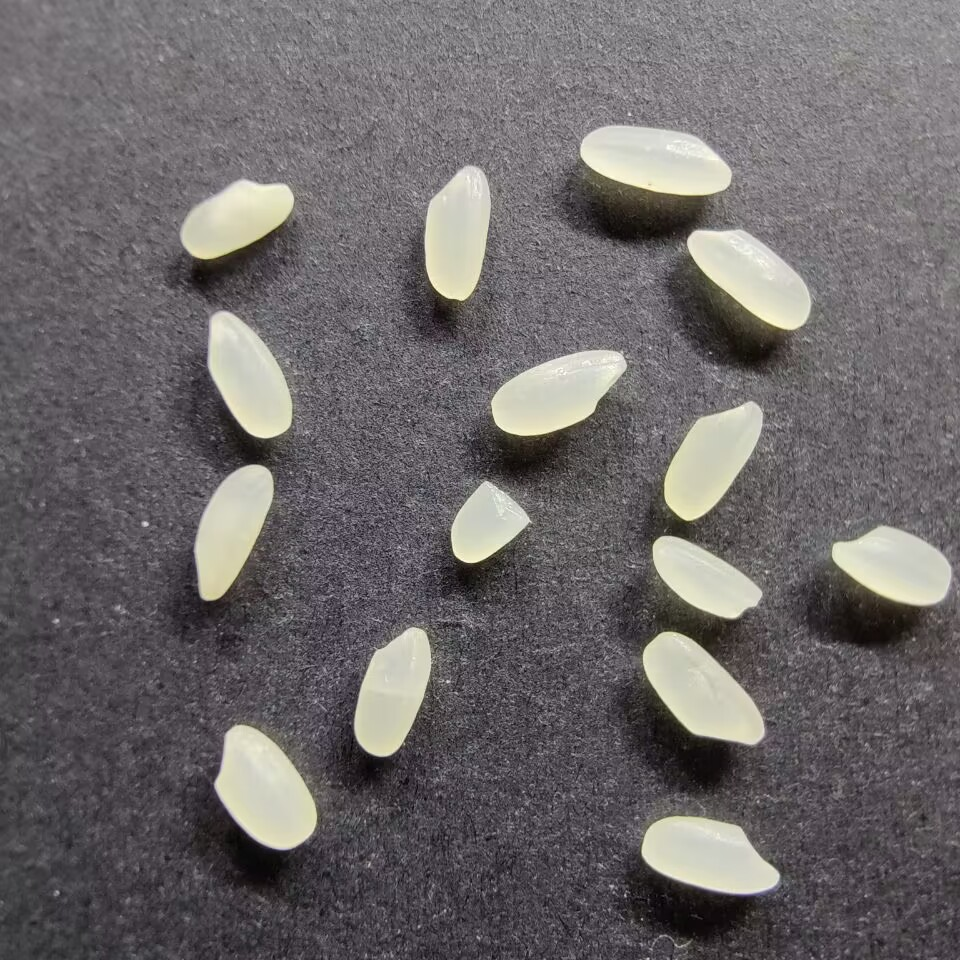broken: (448, 479, 532, 564)
rice: (641, 629, 767, 745), (211, 723, 318, 851), (686, 227, 813, 332), (660, 398, 764, 521), (491, 348, 629, 437), (206, 309, 296, 440), (639, 815, 783, 895), (578, 124, 734, 196), (193, 462, 273, 602), (352, 625, 433, 760), (828, 525, 954, 605), (421, 163, 493, 302), (651, 533, 764, 620), (178, 177, 294, 260)
